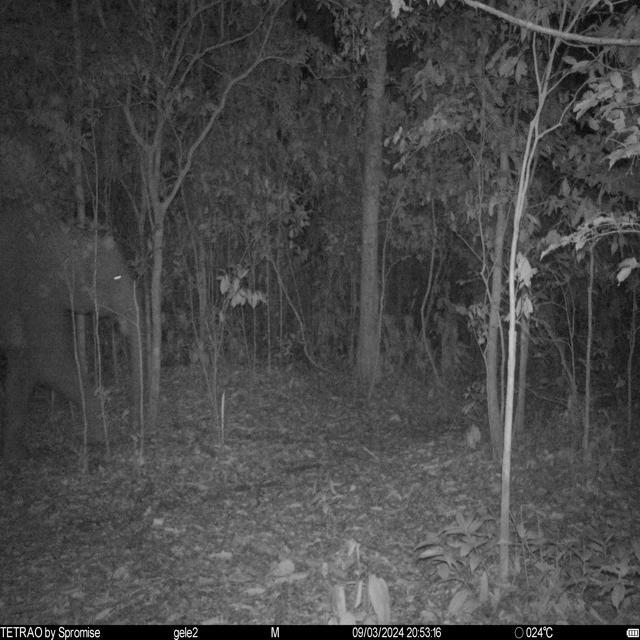elephant: (0, 207, 150, 474)
